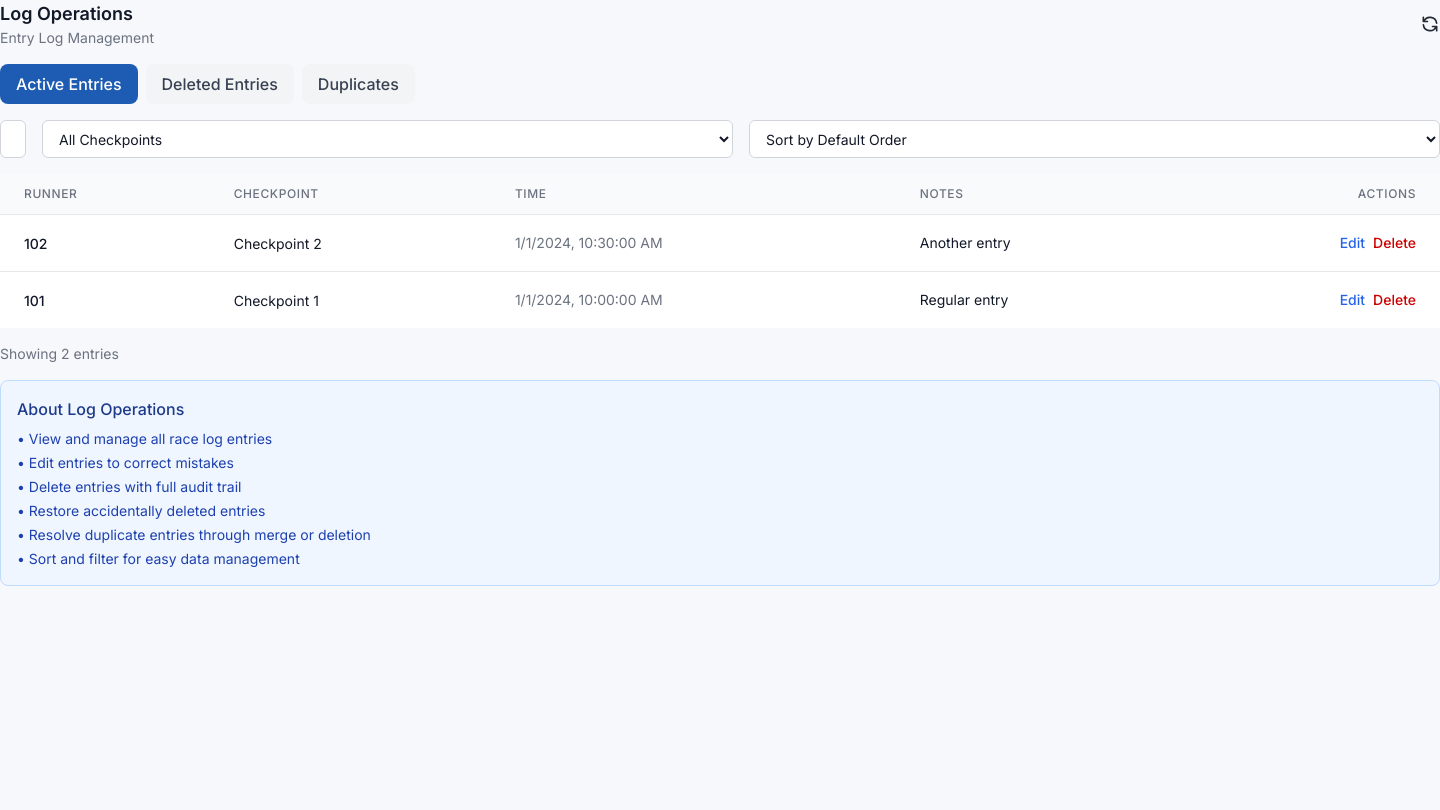
Test: LogOperationsPanel › handles errors during operations
Open edit modal
Click the button "Edit" in the row of "102" at (1352, 243), box [1340,233,1365,253]
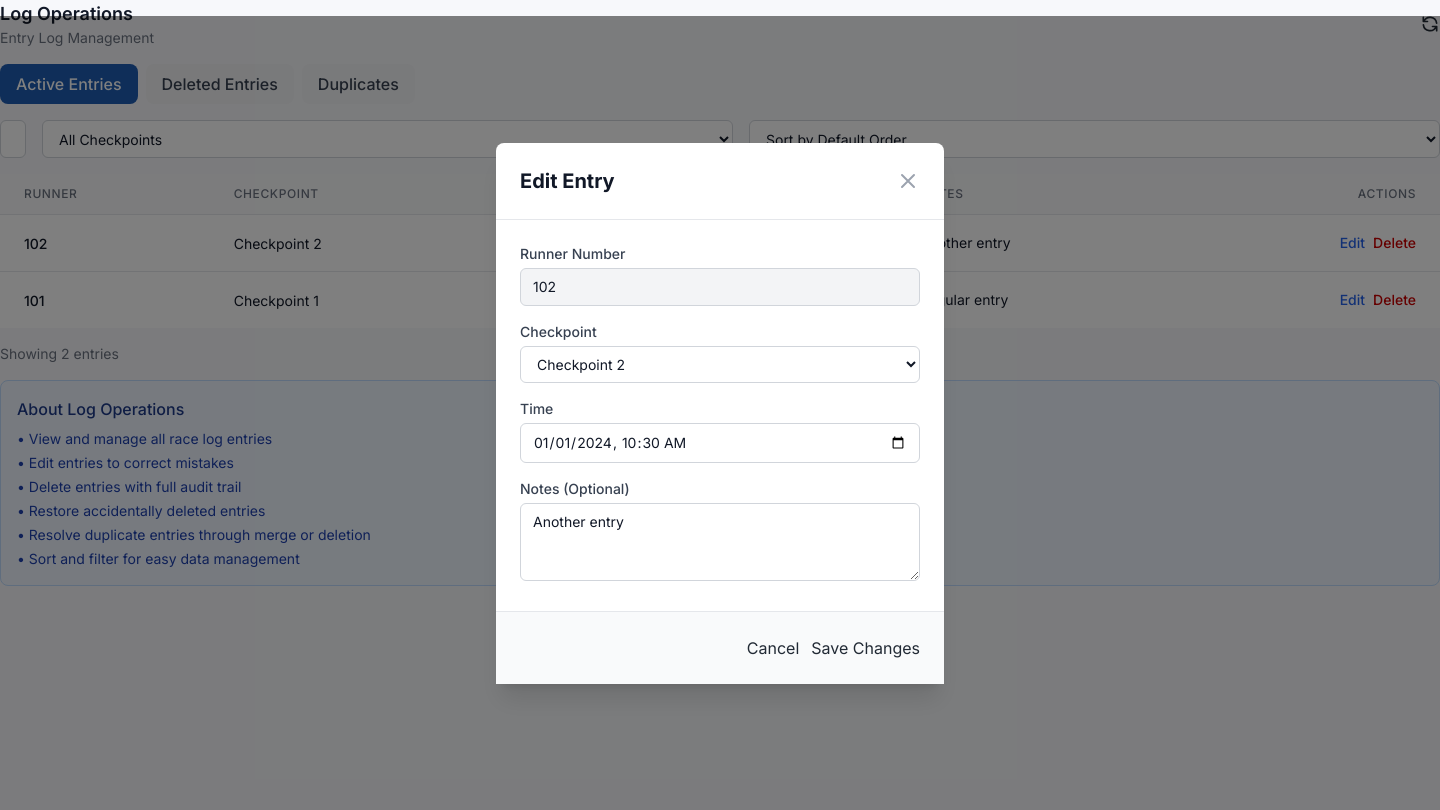
Try to save
Click the button "Save Changes" at (866, 648), box [811,636,920,660]
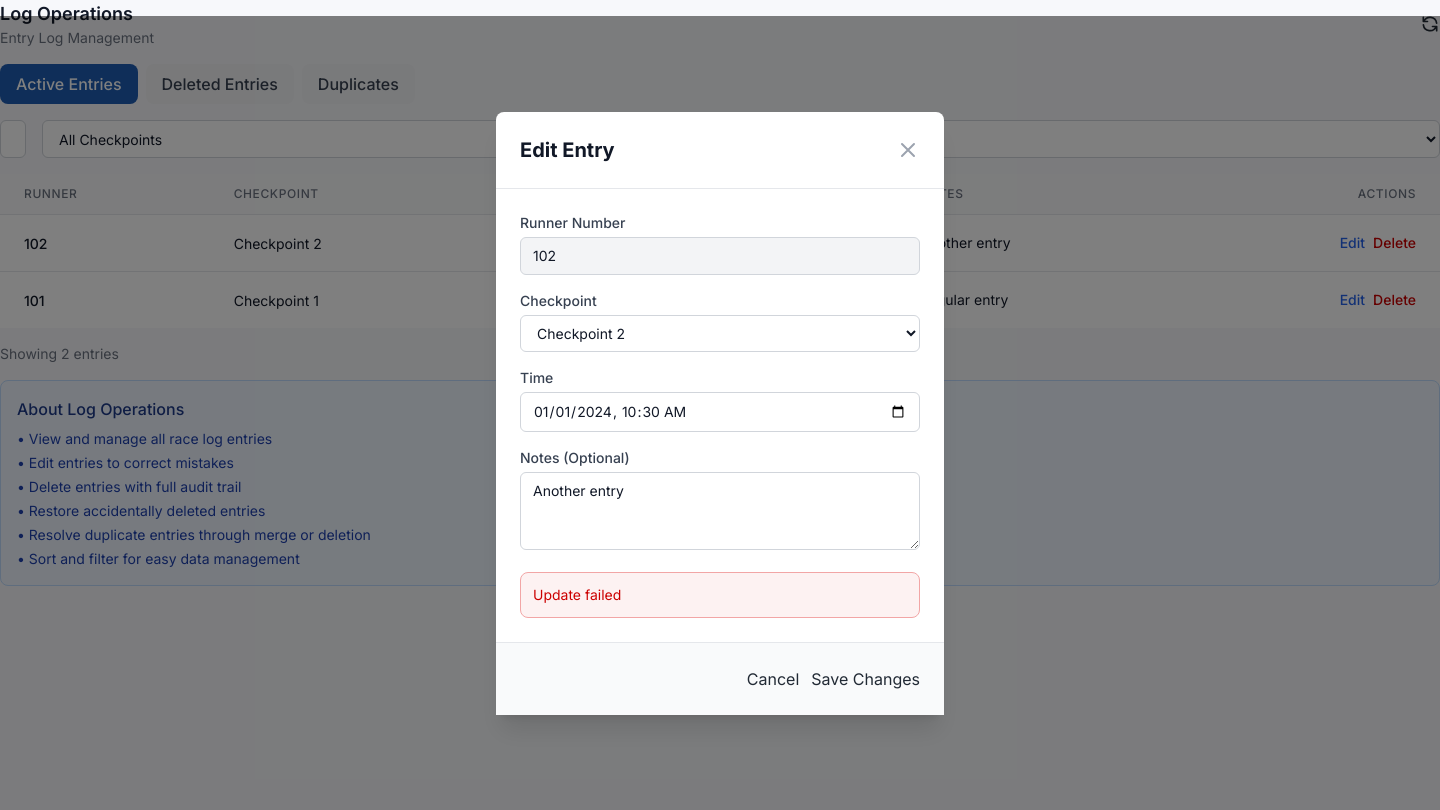
Expected: the text "Update failed" is shown, [533,586,621,602]
